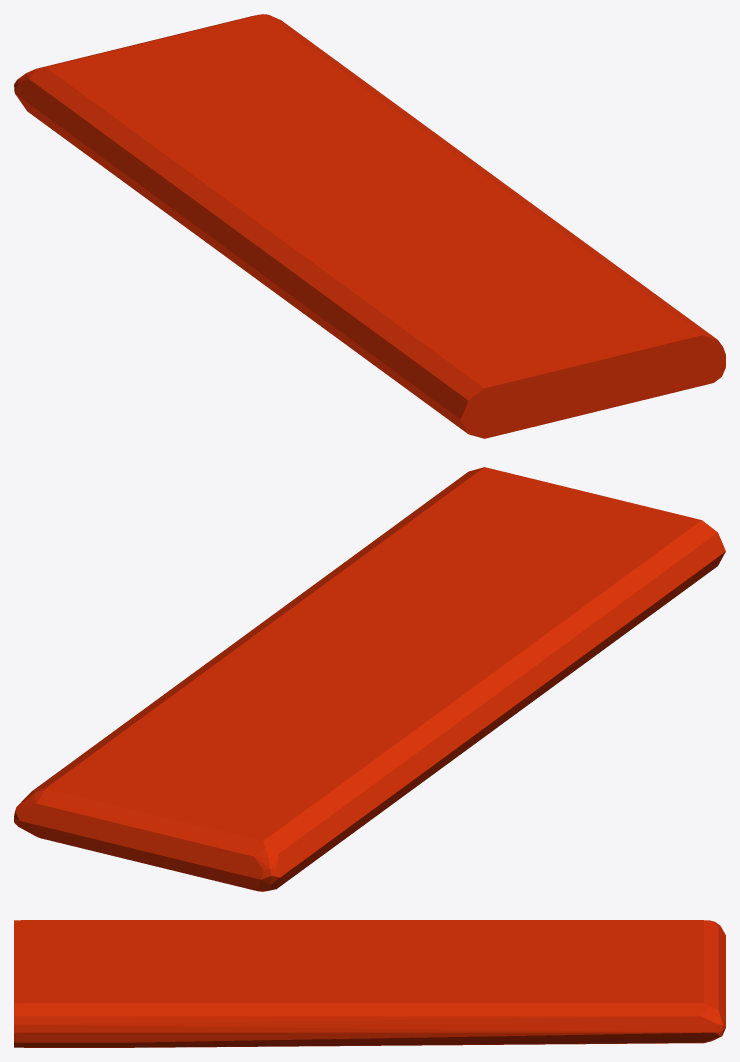
File: model0_convex_piece_015.obj
3 views of the same model, one above another, from view 1: azimuth 30°, elevation 25°; view 2: azimuth 150°, elevation 25°; view 3: azimuth 270°, elevation 25° (orthographic). The views are drawn at different scales.
Size of the model in its own units: 0.0153 by 0.00278 by 0.0452.
